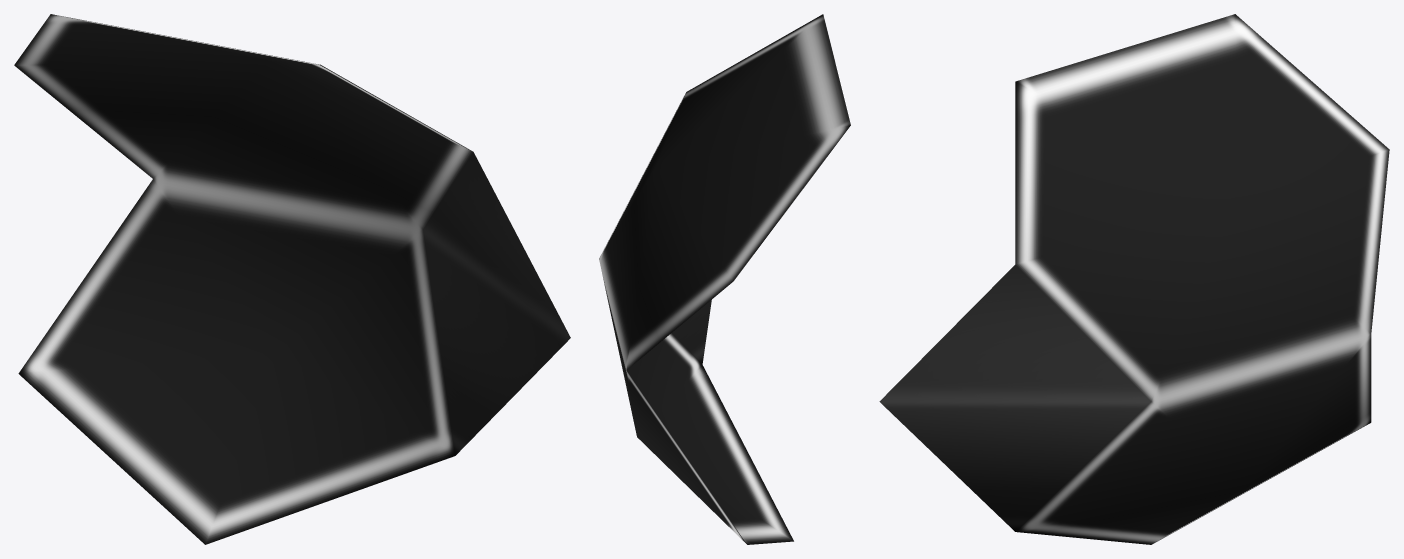
Rendered from Particle_puja_flyingrobot03_attack3_Sheild01.FBX.
The picture shows the model from 3 angles, left to right: view 1: azimuth 30°, elevation 25°; view 2: azimuth 150°, elevation 25°; view 3: azimuth 270°, elevation 25°; orthographic projection. The views are drawn at different scales.
Parts seen in each view (by area): view 1: Object005; view 2: Object005; view 3: Object005.
Part boxes in pixels (left/top/right/bottom): Object005: left=14, top=14, right=570, bottom=544; Object005: left=599, top=14, right=850, bottom=544; Object005: left=879, top=14, right=1389, bottom=544.
Size of the model in its own units: 27.6 by 42.31 by 40.59.
